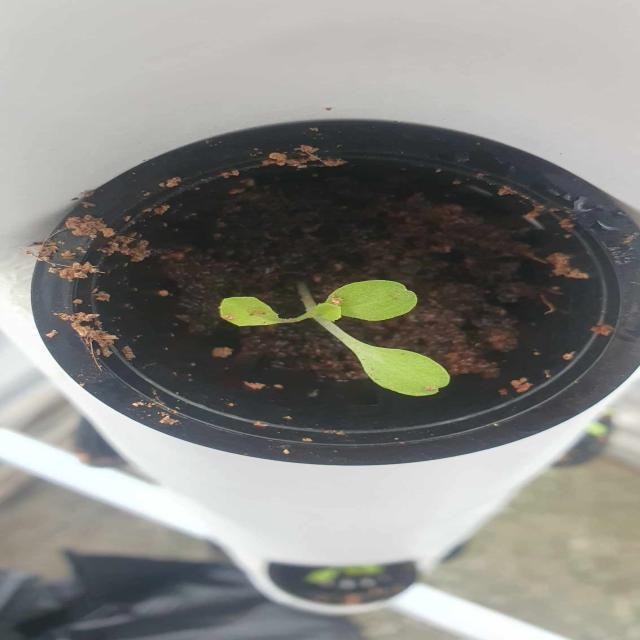Lettuce-Not-Ready-to-Harvest: (212, 275, 451, 400)
